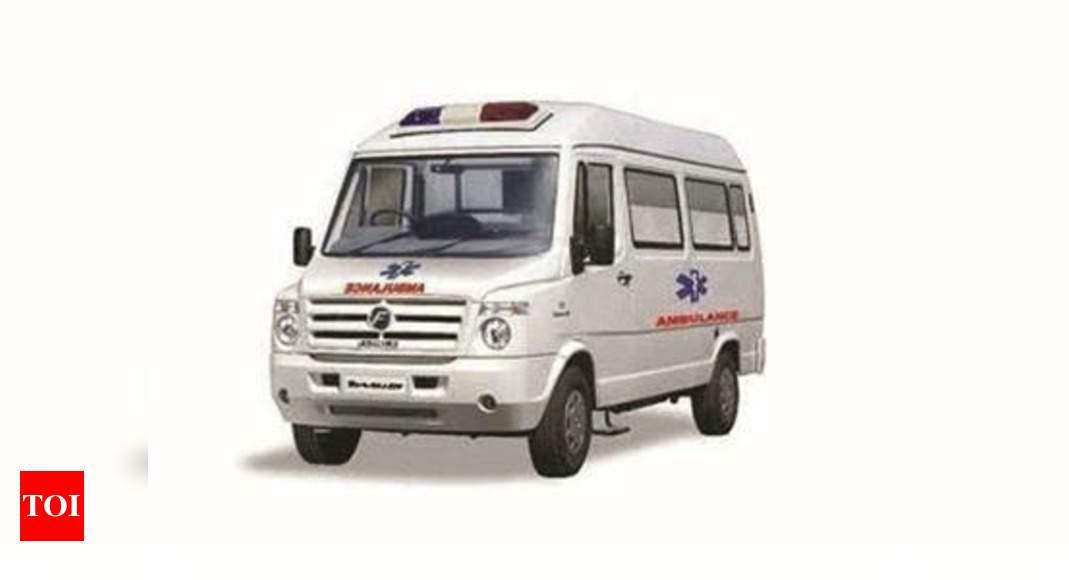ER: (269, 99, 765, 476)
